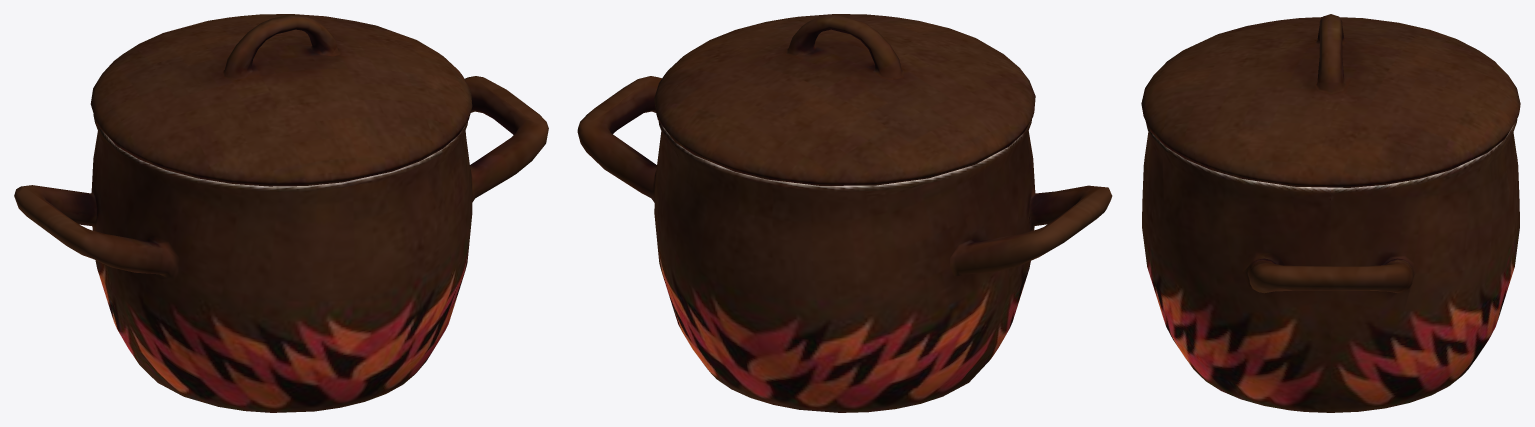
File: pot.glb
The picture shows the model from 3 angles, left to right: view 1: azimuth 30°, elevation 25°; view 2: azimuth 150°, elevation 25°; view 3: azimuth 270°, elevation 25°; orthographic projection.
Visible parts, largest first — view 1: pot_enamel_01_base, pot_enamel_01_lid; view 2: pot_enamel_01_base, pot_enamel_01_lid; view 3: pot_enamel_01_base, pot_enamel_01_lid.
Boxes of the visible parts, x1,y1,x2,y2 form: pot_enamel_01_base: [14, 76, 548, 412]; pot_enamel_01_lid: [90, 14, 472, 186]; pot_enamel_01_base: [577, 76, 1112, 412]; pot_enamel_01_lid: [654, 14, 1035, 185]; pot_enamel_01_base: [1142, 119, 1519, 412]; pot_enamel_01_lid: [1141, 14, 1520, 187].
Bounding box in the file's own units: 0.2627 × 0.178 × 0.1805.
Materials: 1 (1 with a texture image).
